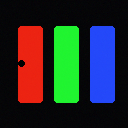0 point: (18, 60, 24, 66)
